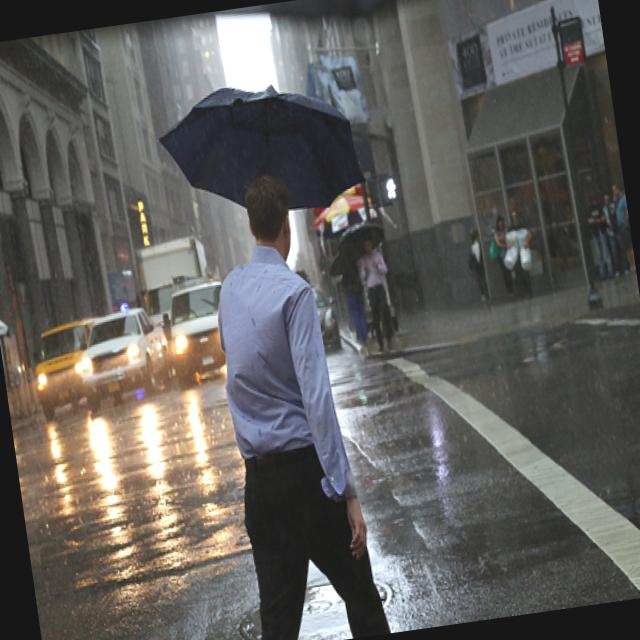Vehicle: (72, 304, 177, 416), (27, 315, 106, 420), (161, 281, 237, 386), (136, 234, 214, 328), (162, 280, 234, 380), (312, 282, 342, 351)
